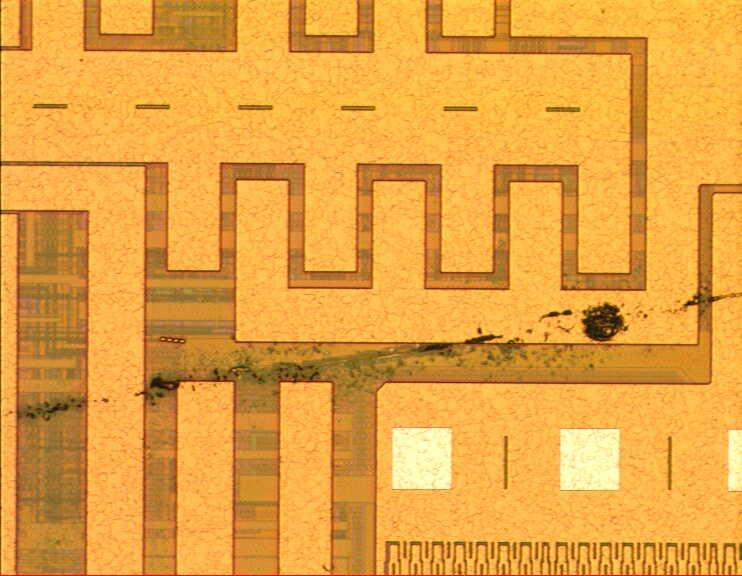SCRATCH: (1, 283, 742, 433)
